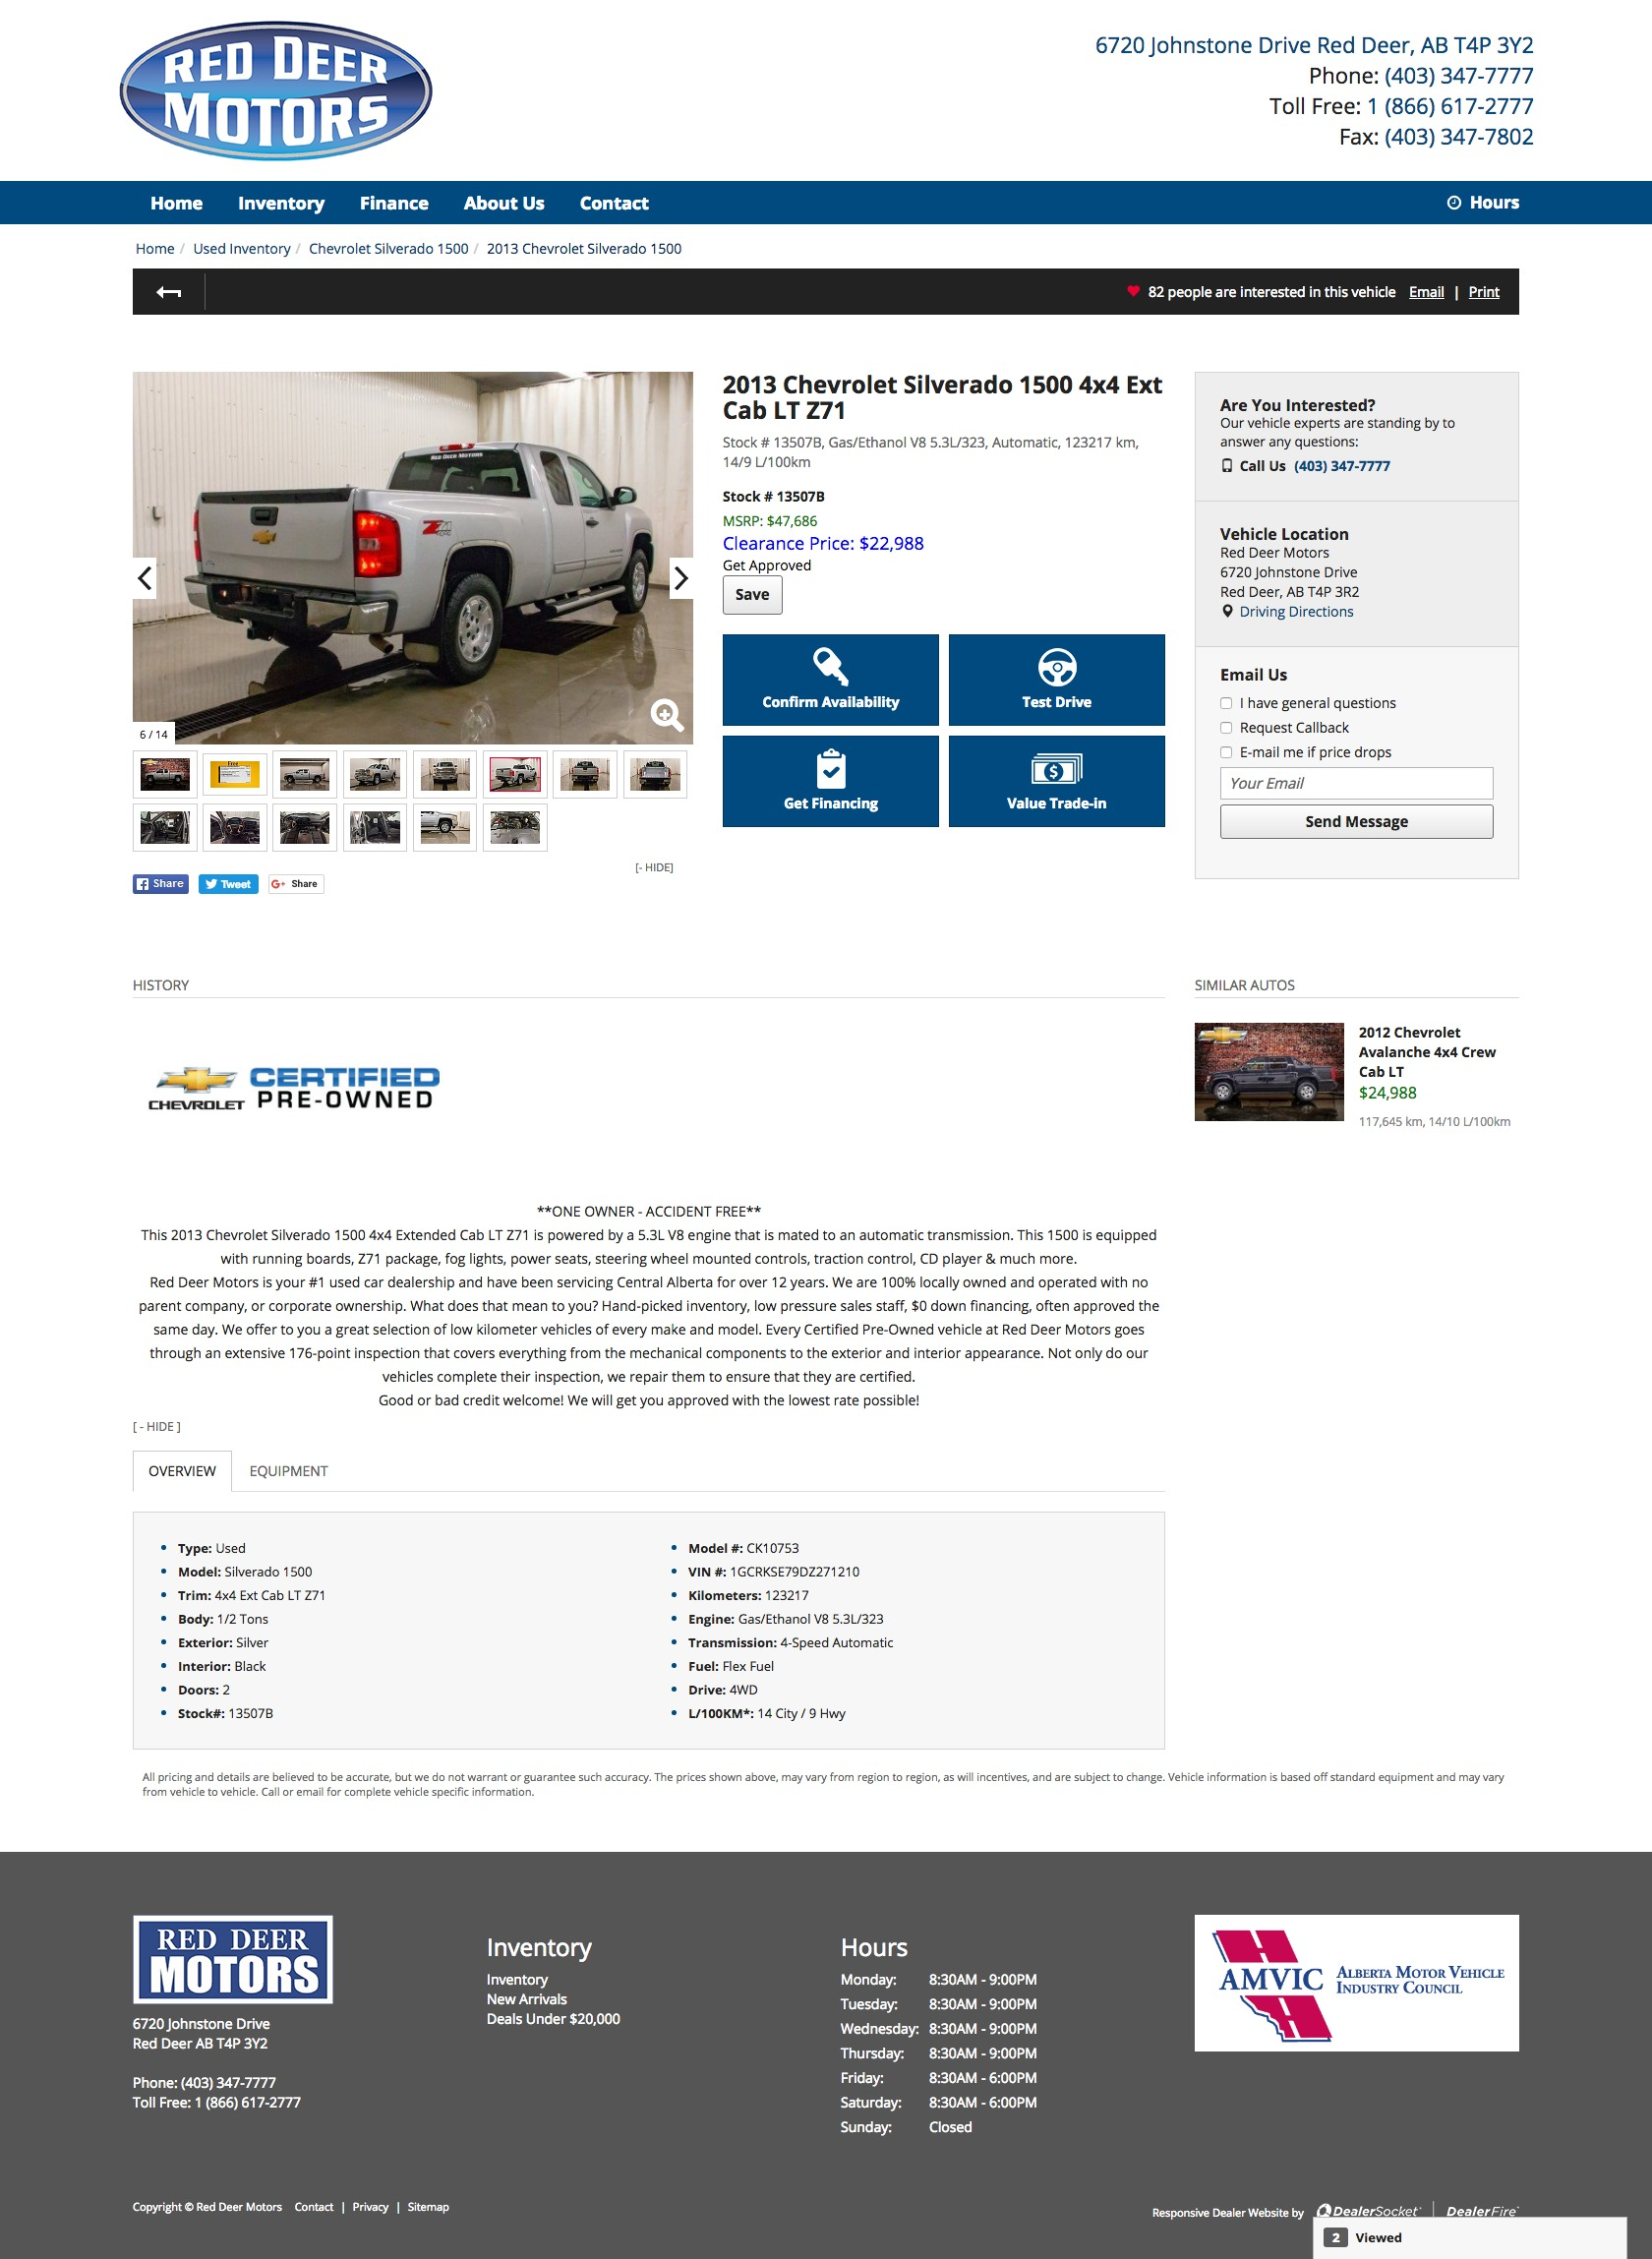car: (668, 556, 698, 603)
